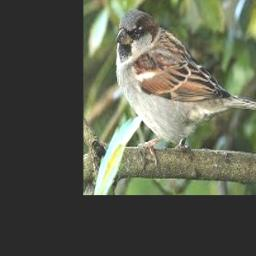Sparrow: (116, 8, 256, 163)
